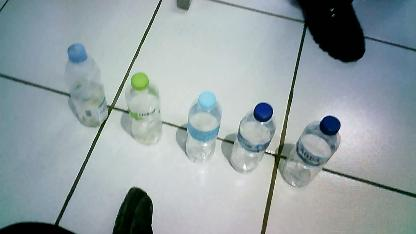Plastic Bottle: (57, 32, 119, 136), (285, 111, 347, 209), (117, 60, 169, 160), (229, 100, 279, 188), (178, 88, 224, 180)
